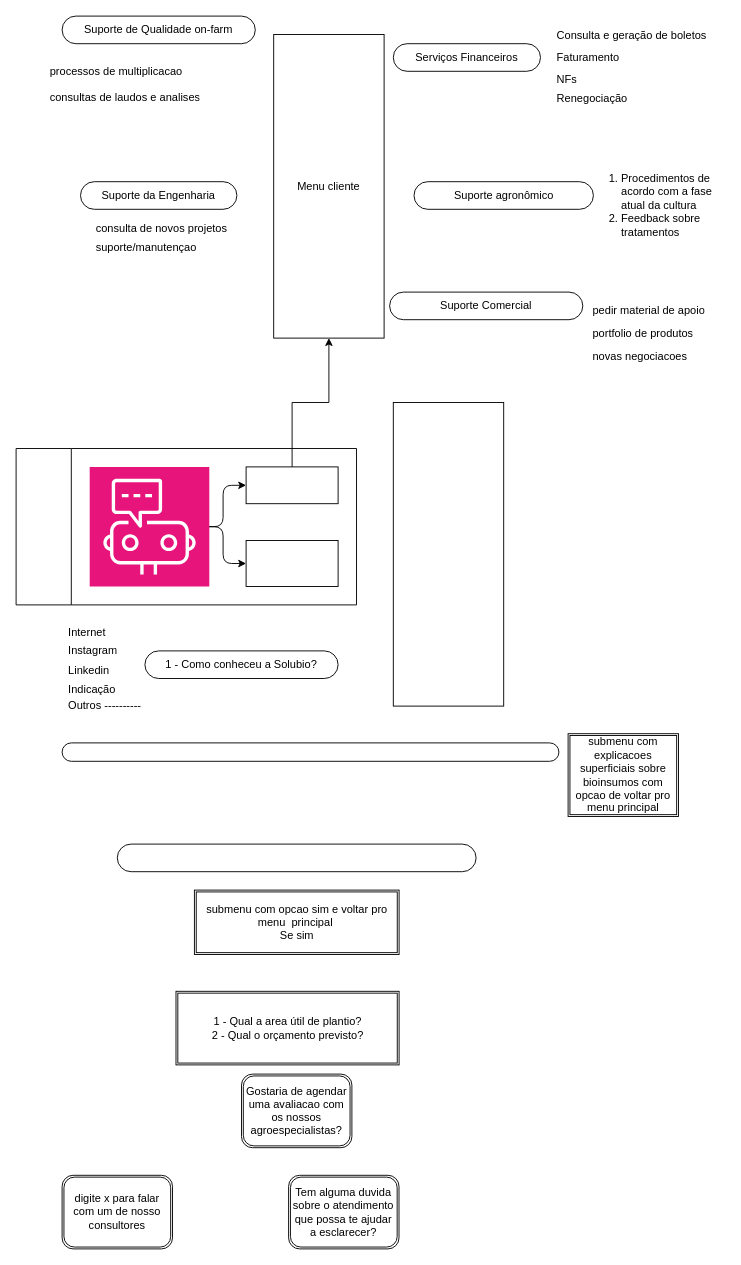
Image size: 741x1265. Some labels were removed from this diagram. The shapes that lost their labels are listed below. From the top down, each one's box as (x1, y1, x2, y2) in pixels, then its label:
(245, 466, 338, 504): Já sou cliente!
(15, 448, 356, 605): contato inicial por whatsapp
(245, 540, 338, 586): Quero ser cliente!
(392, 402, 504, 706): Menu Quero ser cliente!
(61, 742, 559, 761): 2 - Gostaria de saber o que é um Bioinsumo e as vantagens da sua utilização?
(116, 843, 476, 872): 2 - G ostaria de saber como a nossa solução pode te ajudar ?
